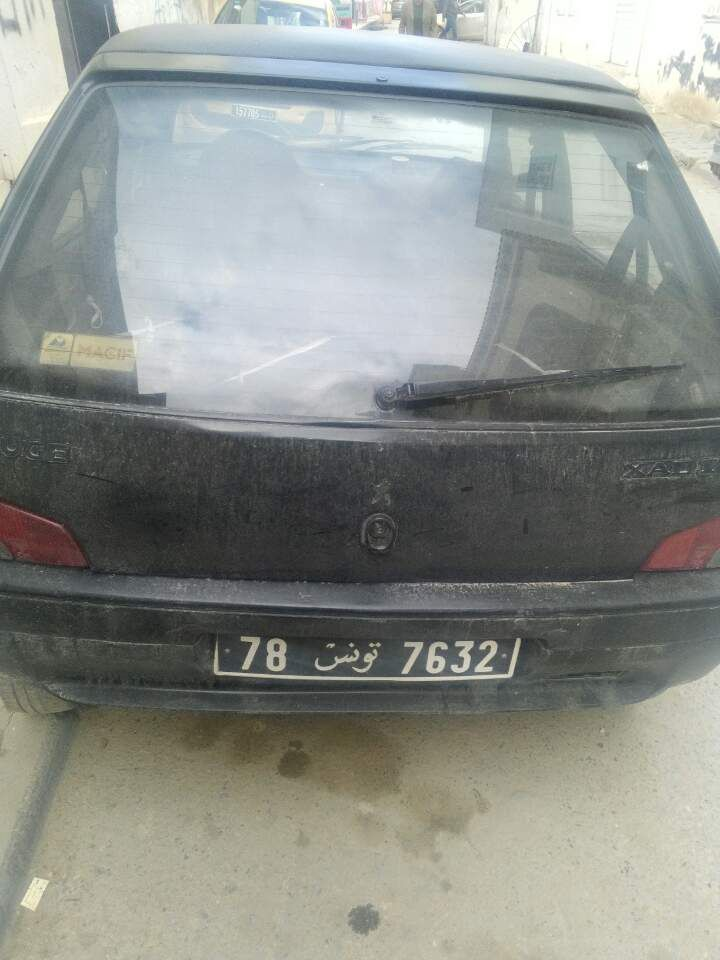LP: (213, 630, 522, 684)
